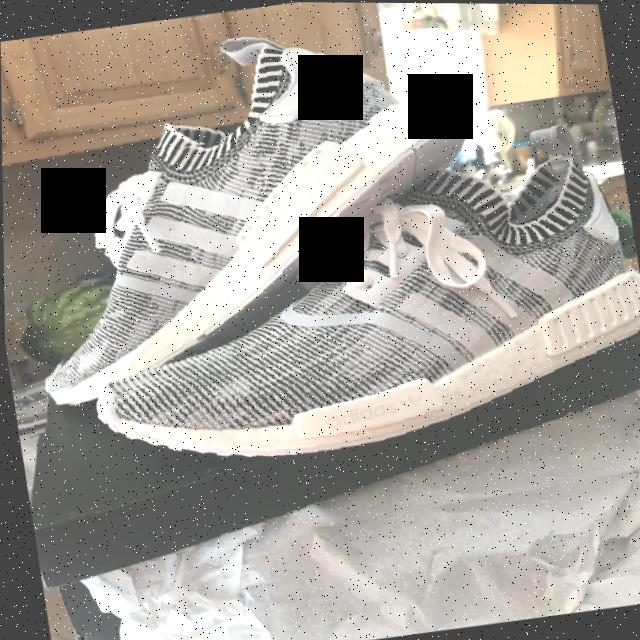shoe: (20, 85, 640, 572), (0, 0, 457, 441)
